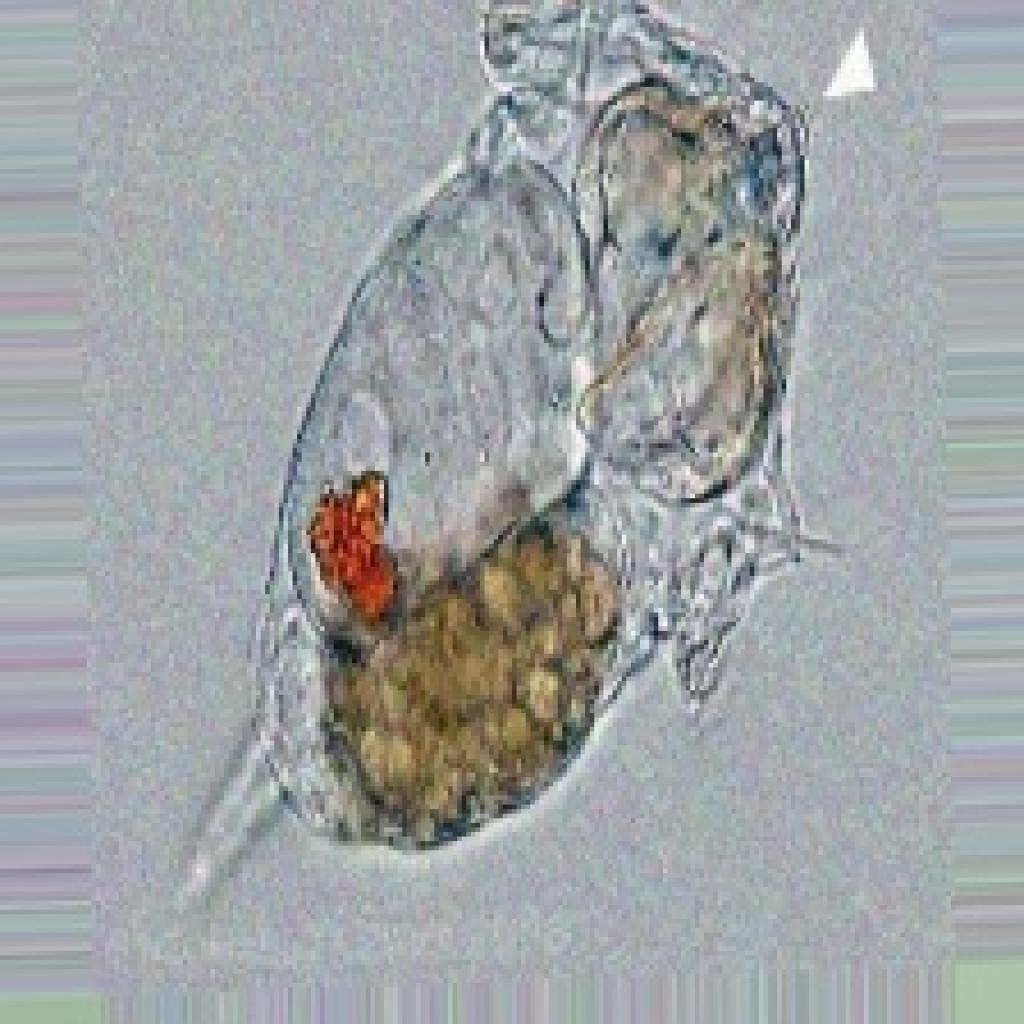Rotifer: (210, 0, 841, 869)
